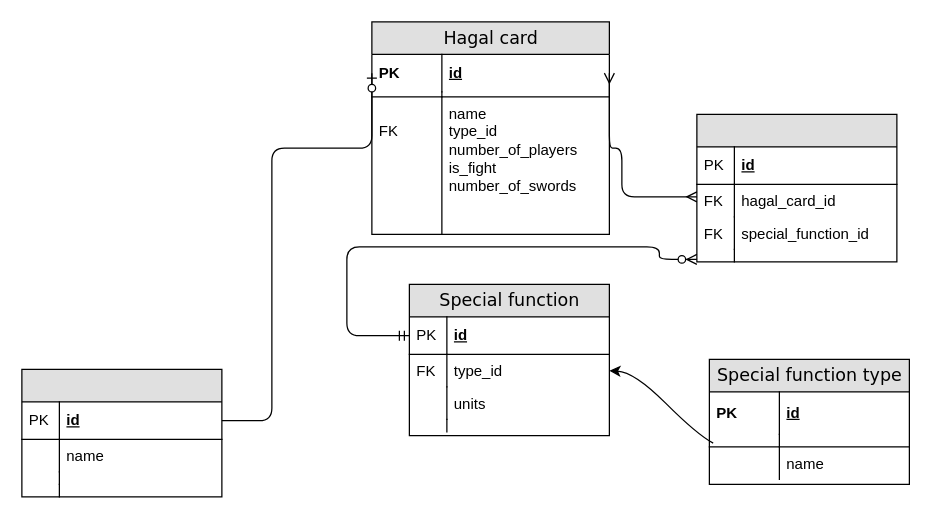
The diagram is 931 pixels wide and 519 high, and some of its shapes have lost their labels. Here are the shapes that lost their labels. From the top down, the box of each, then its label:
(696, 113, 897, 262): Hagal function
(21, 368, 222, 497): Type
